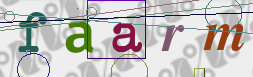a: (111, 21, 144, 54), (64, 20, 94, 55)
f: (17, 10, 49, 53)
m: (201, 23, 245, 51)
r: (159, 23, 185, 52)
